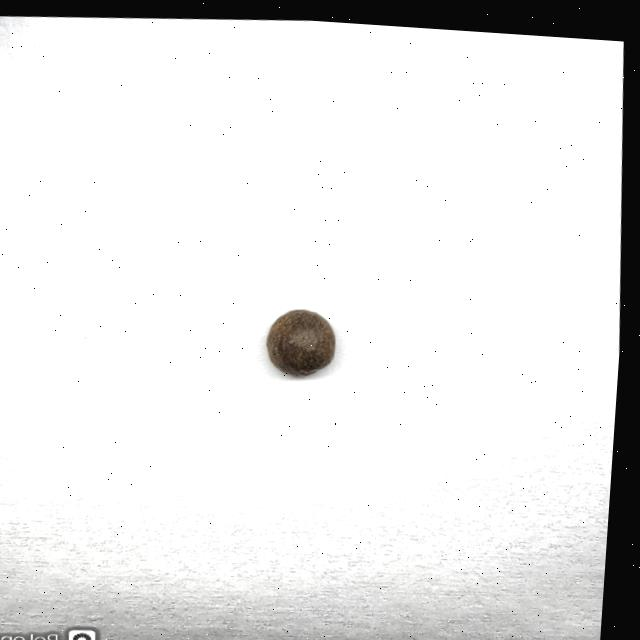Black: (270, 304, 342, 373)
